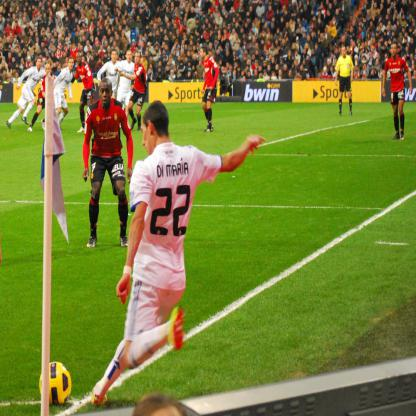corner kick: (28, 59, 210, 414)
